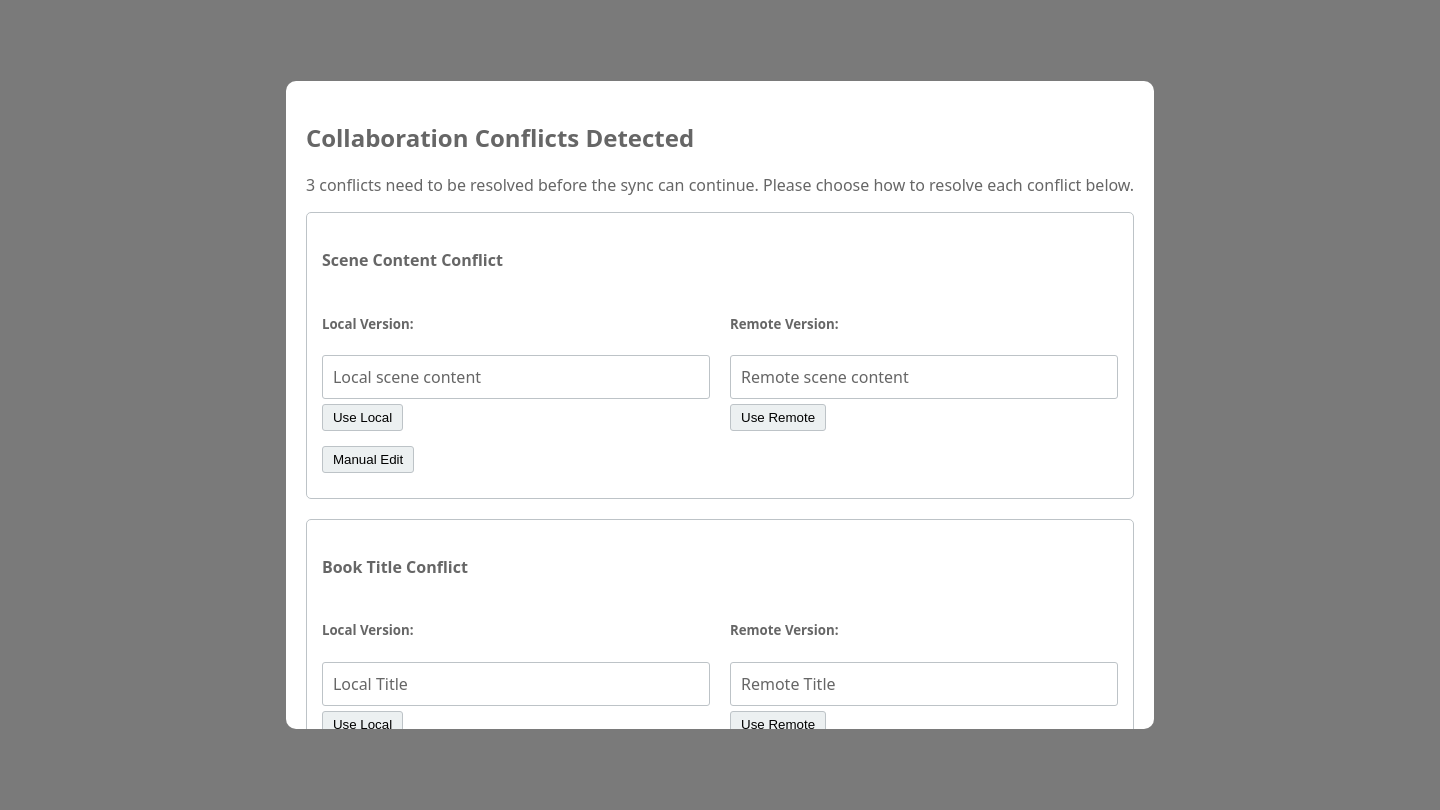
Test case: ConflictResolution Component › should require all conflicts to be resolved before allowing submission
# Resolve first conflict
Click the button "Use Local" below "Local scene content" at point(363, 417), box [322, 404, 403, 431]
(page scrolled)
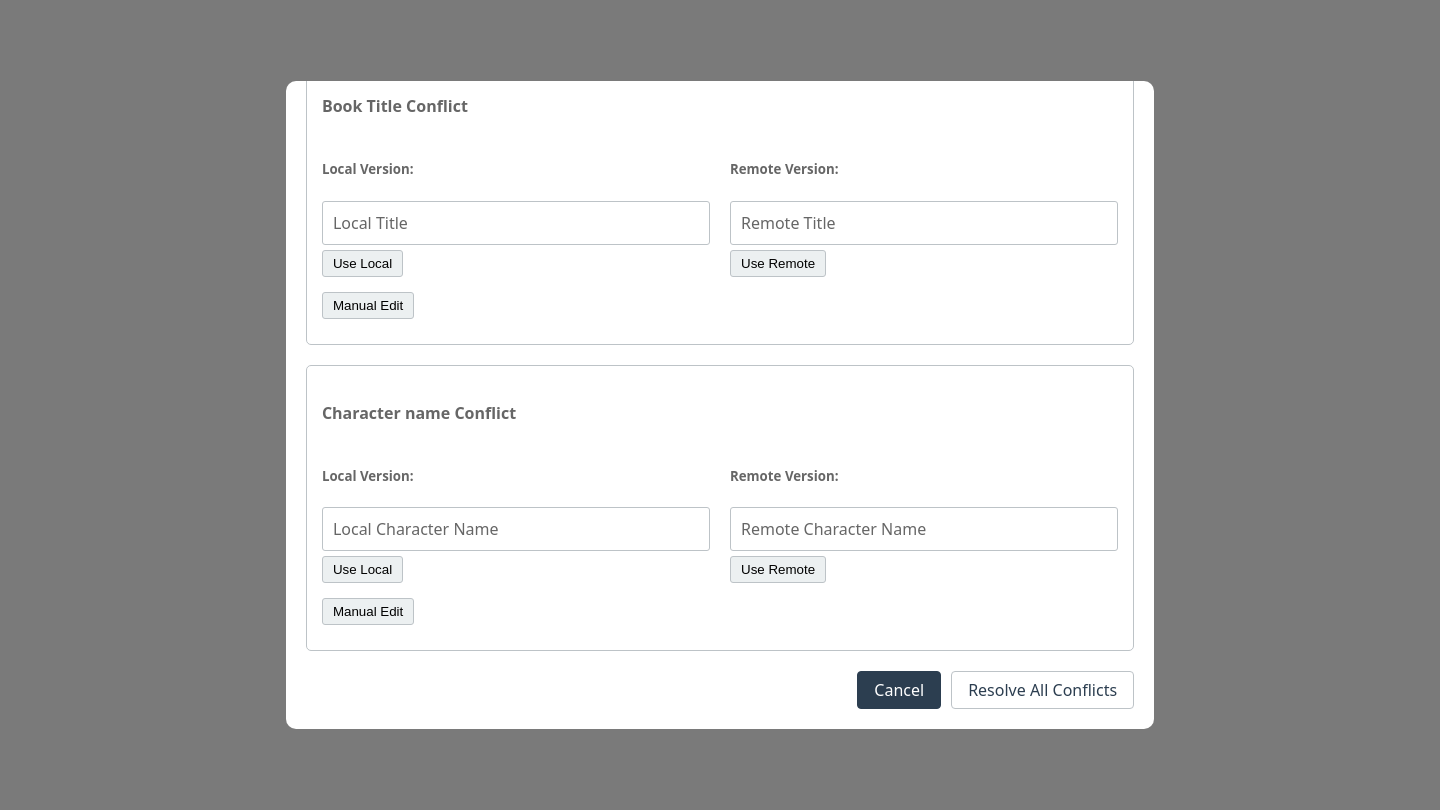
Now the button "Resolve All Conflicts" is disabled, box [951, 671, 1134, 709]
